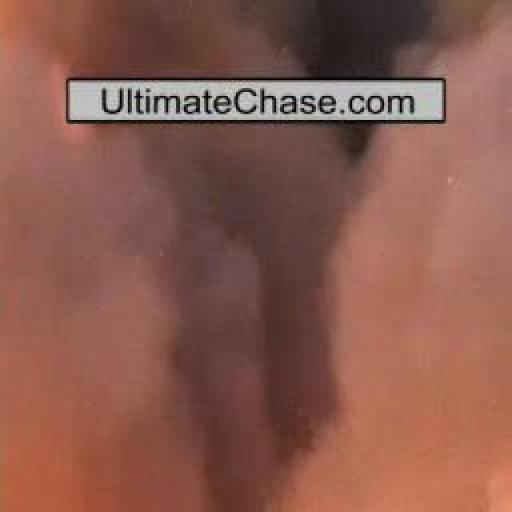smoke: (0, 390, 91, 512), (0, 0, 46, 42)
